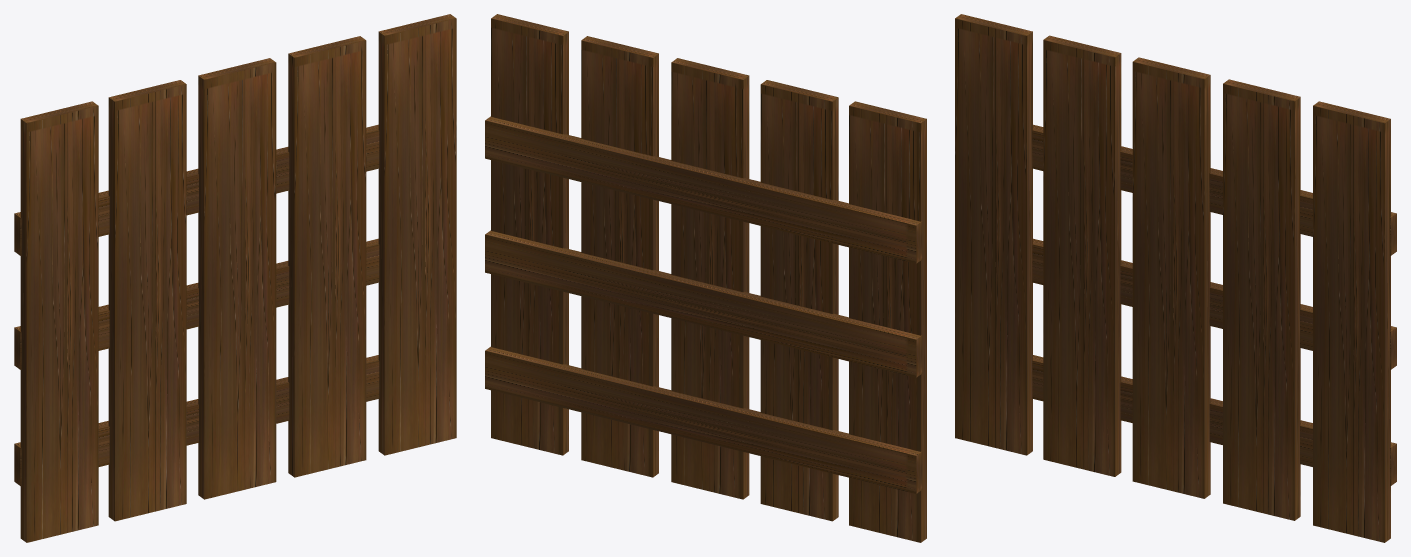
The model's file is fence.fbx.
The picture shows the model from 3 angles, left to right: view 1: azimuth 30°, elevation 25°; view 2: azimuth 150°, elevation 25°; view 3: azimuth 330°, elevation 25°; orthographic projection.
Visible parts, largest first — view 1: Cube, Cube.002, Cube.003, Cube.001, Cube.004, Cube.006, Cube.005, Cube.007; view 2: Cube.003, Cube, Cube.001, Cube.002, Cube.004, Cube.007, Cube.005, Cube.006; view 3: Cube, Cube.001, Cube.003, Cube.004, Cube.002, Cube.007, Cube.006, Cube.005.
Part boxes in pixels (left/top/right/bottom): Cube: left=198, top=58, right=276, bottom=499; Cube.002: left=288, top=36, right=366, bottom=477; Cube.003: left=20, top=101, right=98, bottom=542; Cube.001: left=108, top=80, right=186, bottom=521; Cube.004: left=378, top=14, right=456, bottom=455; Cube.006: left=14, top=238, right=379, bottom=369; Cube.005: left=14, top=124, right=379, bottom=255; Cube.007: left=14, top=355, right=379, bottom=486; Cube.003: left=849, top=101, right=926, bottom=542; Cube: left=671, top=58, right=749, bottom=499; Cube.001: left=760, top=80, right=838, bottom=521; Cube.002: left=581, top=36, right=658, bottom=477; Cube.004: left=491, top=14, right=568, bottom=455; Cube.007: left=485, top=346, right=922, bottom=493; Cube.005: left=485, top=116, right=922, bottom=263; Cube.006: left=485, top=230, right=922, bottom=377; Cube: left=1132, top=57, right=1210, bottom=498; Cube.001: left=1043, top=35, right=1121, bottom=476; Cube.003: left=955, top=14, right=1032, bottom=455; Cube.004: left=1313, top=101, right=1390, bottom=542; Cube.002: left=1223, top=79, right=1300, bottom=520; Cube.007: left=1032, top=355, right=1396, bottom=485; Cube.006: left=1032, top=238, right=1396, bottom=369; Cube.005: left=1032, top=124, right=1396, bottom=255.
Bounding box in the file's own units: 215 × 200 × 9.91.
1 material, 1 textured.
